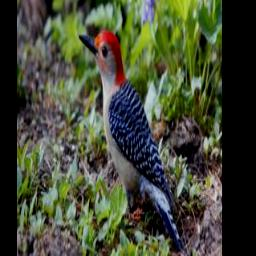Woodpecker: (78, 28, 185, 253)
